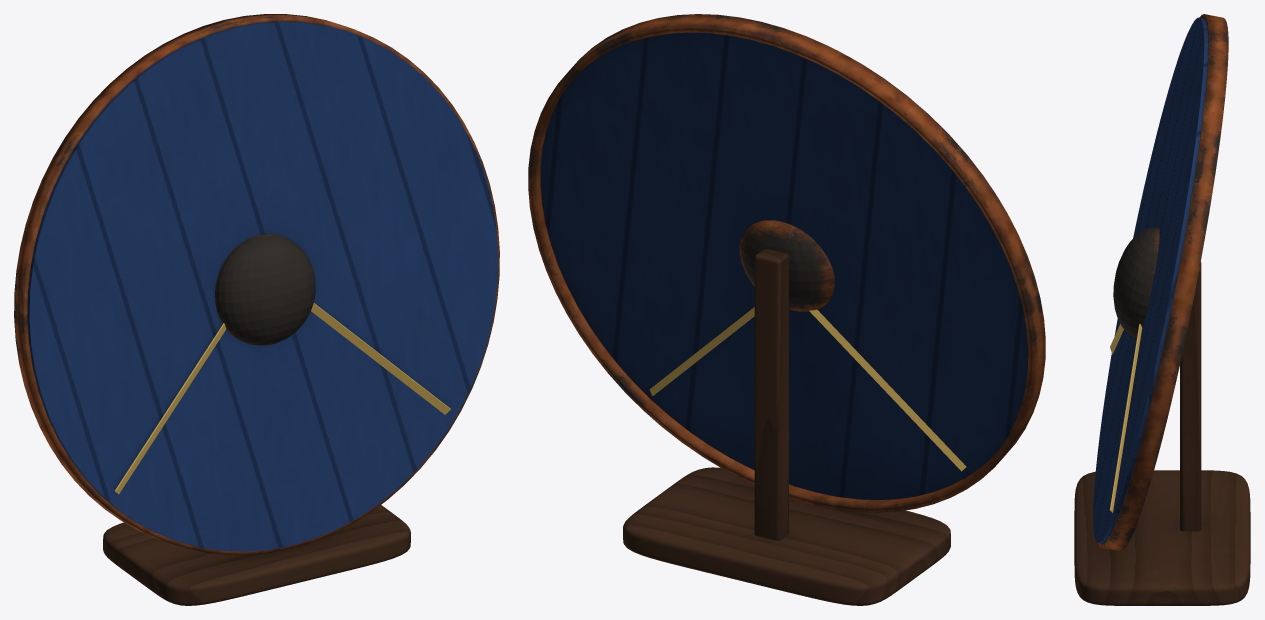
File: viking-blue.glb
3 views of the same model, side by side, from view 1: azimuth 30°, elevation 25°; view 2: azimuth 150°, elevation 25°; view 3: azimuth 270°, elevation 25° (orthographic). The views are drawn at different scales.
Parts seen in each view (by area): view 1: paint_primary_shield, iron, wood_x, shield_paint; view 2: paint_primary_shield, iron, wood_x, wood_z, shield_paint; view 3: paint_primary_shield, wood_x, iron, wood_z, shield_paint.
Boxes of the visible parts, <box> form: paint_primary_shield: <box>27,21,498,551</box>; iron: <box>14,14,499,554</box>; wood_x: <box>103,505,410,605</box>; shield_paint: <box>115,303,450,494</box>; paint_primary_shield: <box>540,32,1028,499</box>; iron: <box>528,14,1045,512</box>; wood_x: <box>623,467,950,605</box>; wood_z: <box>754,249,788,540</box>; shield_paint: <box>649,307,966,471</box>; paint_primary_shield: <box>1093,17,1208,543</box>; wood_x: <box>1074,470,1250,605</box>; iron: <box>1098,14,1228,551</box>; wood_z: <box>1180,262,1201,531</box>; shield_paint: <box>1110,324,1142,512</box>.
Bounding box in the file's own units: 0.772 × 0.8005 × 0.25.
5 materials, 4 textured.
